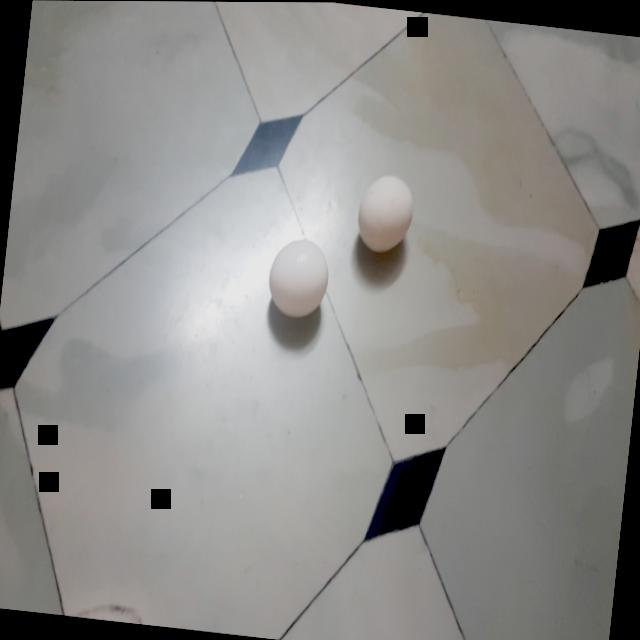eggs: (265, 235, 331, 316), (352, 172, 419, 251)
